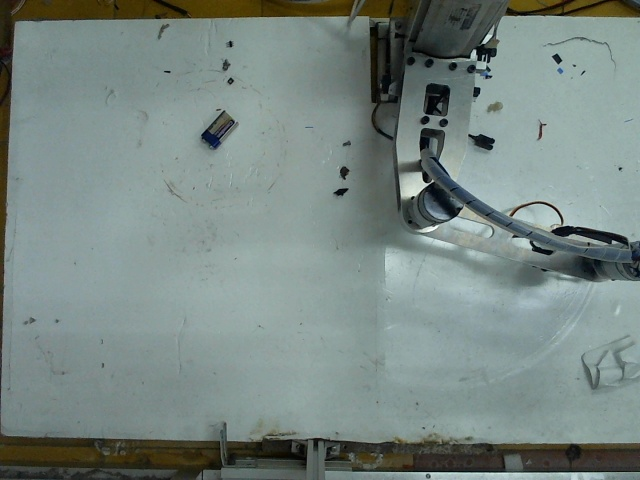battery: (200, 109, 236, 149)
